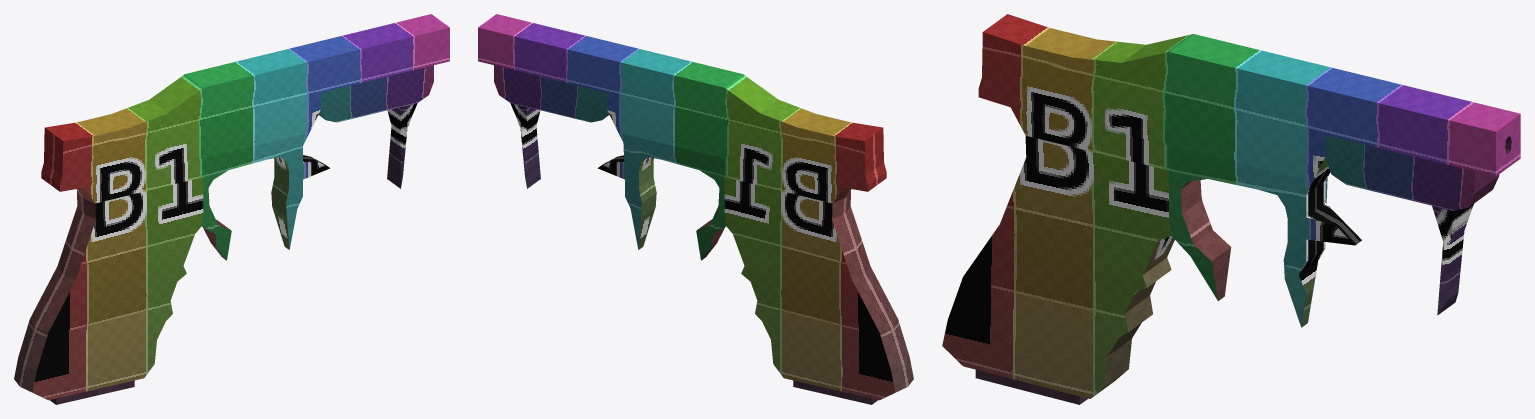
File: Salvation2_typeN.glb
3 views of the same model, side by side, from view 1: azimuth 30°, elevation 25°; view 2: azimuth 150°, elevation 25°; view 3: azimuth 330°, elevation 25° (orthographic). The views are drawn at different scales.
Parts seen in each view (by area): view 1: Salvation.001, Mag; view 2: Salvation.001, Mag; view 3: Salvation.001, Mag.
Boxes of the visible parts, x1,y1,x2,y2 form: Salvation.001: (14,14,449,400); Mag: (50,380,134,404); Salvation.001: (478,14,913,400); Mag: (793,380,877,404); Salvation.001: (942,14,1520,398); Mag: (975,370,1087,404).
Size of the model in its own units: 2.61 by 1.68 by 0.2147.
Materials: 1 (1 with a texture image).
